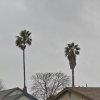Palm tree: (7, 20, 90, 80)
